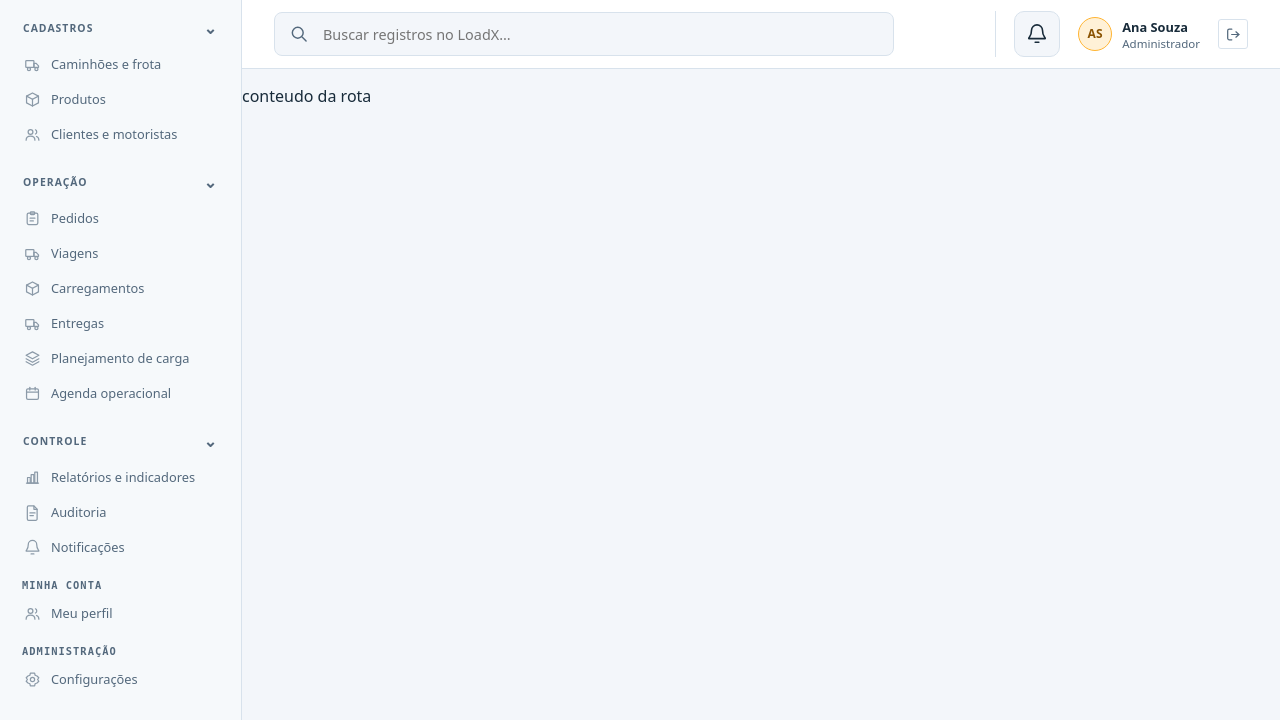
Test case: AppLayout › ADMIN abre Configurações como destino simples, sem submenu
(page scrolled)
Click the link "Configurações".
click(81, 679)  # box [24, 670, 138, 688]
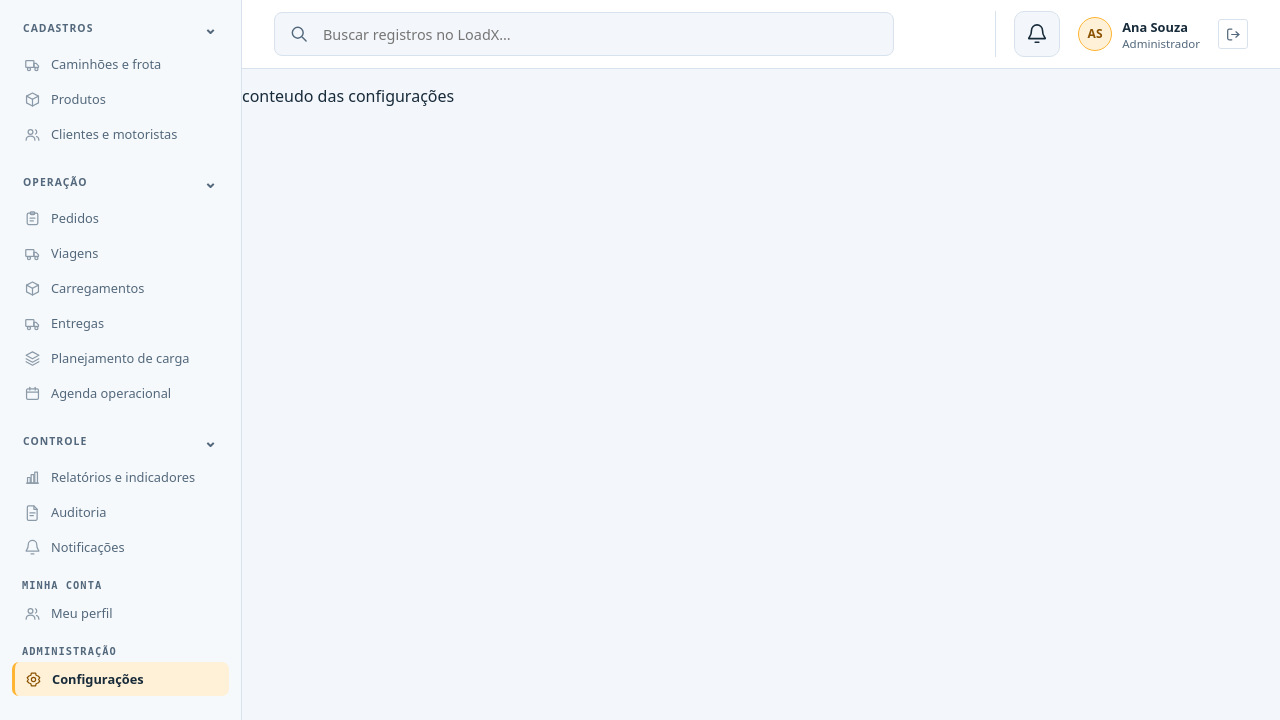
Expected: the text "conteudo das configurações" is shown, [242, 85, 454, 107]
